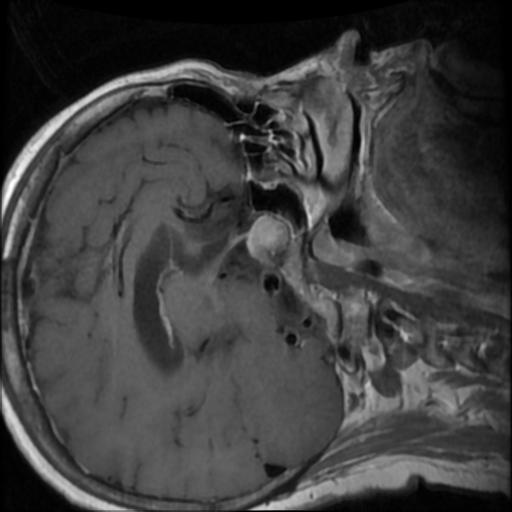pituitary tumour: (245, 215, 291, 267)
